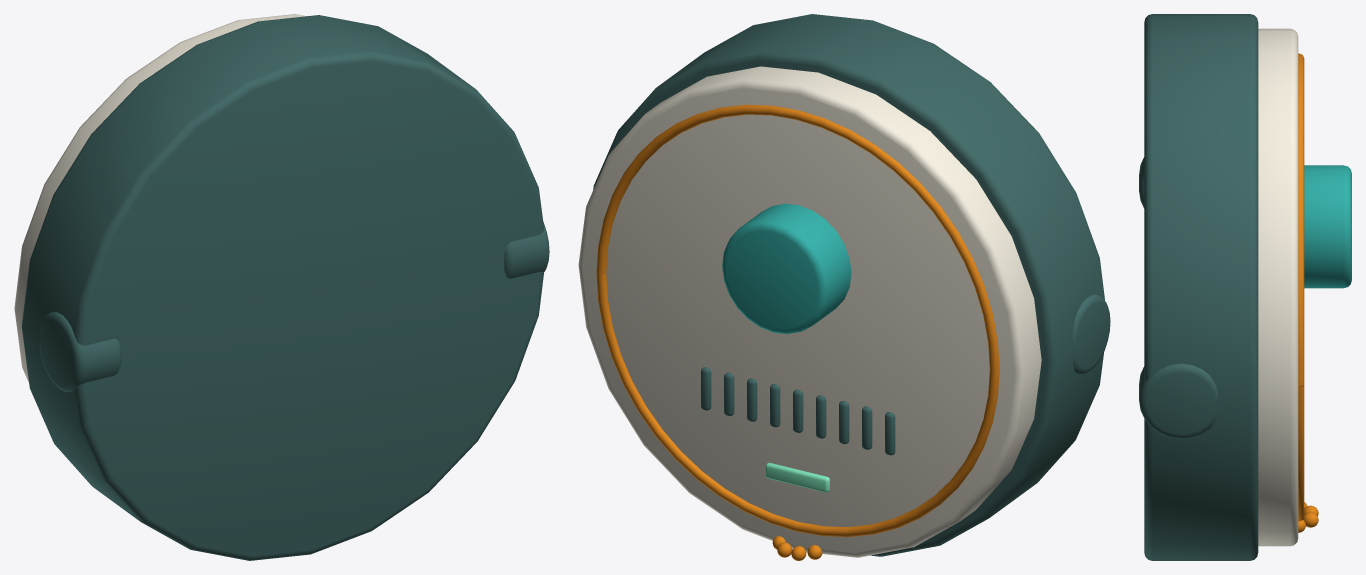
Rendered from RunnerVacuum.fbx.
The picture shows the model from 3 angles, left to right: view 1: azimuth 30°, elevation 25°; view 2: azimuth 150°, elevation 25°; view 3: azimuth 270°, elevation 25°; orthographic projection.
Parts seen in each view (by area): view 1: RunnerVacuum; view 2: RunnerVacuum; view 3: RunnerVacuum.
Part boxes in pixels (x1,y1,x2,y2): RunnerVacuum: [14, 14, 549, 560]; RunnerVacuum: [578, 14, 1110, 560]; RunnerVacuum: [1139, 14, 1351, 560].
Size of the model in its own units: 0.82 by 0.82 by 0.318.
